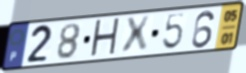2: (24, 22, 56, 67)
5: (160, 11, 187, 51)
6: (190, 9, 216, 50)
8: (55, 23, 83, 61)
H: (88, 16, 122, 60)
X: (120, 14, 152, 57)
